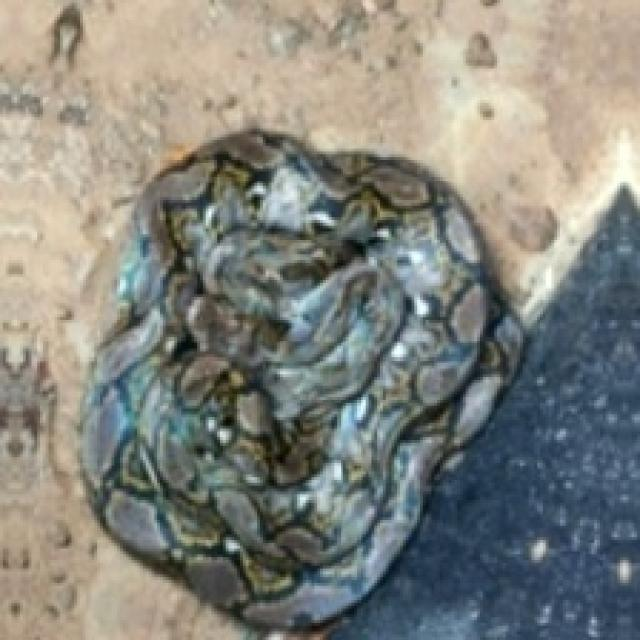reticulated python: (83, 129, 523, 626)
